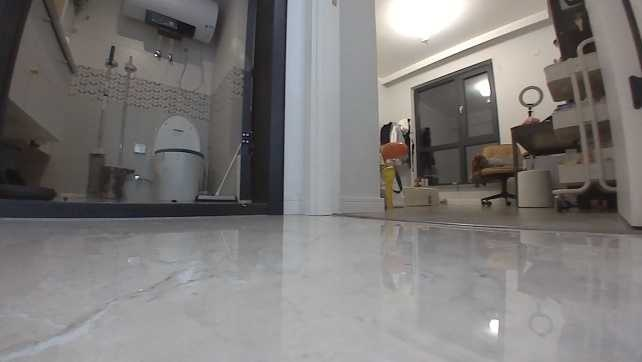door_sill: (0, 195, 263, 217)
toilet: (152, 113, 207, 201)
